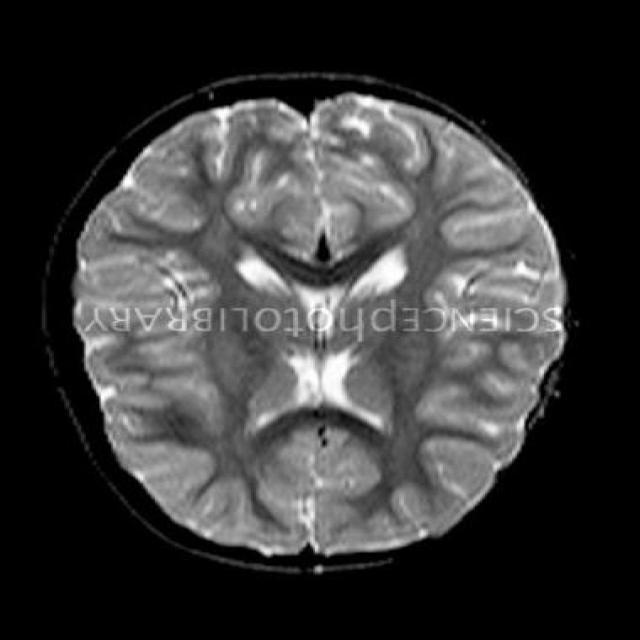notumor: (40, 77, 573, 578)
